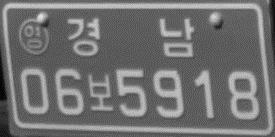0: (20, 66, 50, 116)
1: (194, 69, 216, 120)
5: (115, 67, 148, 117)
6: (54, 67, 85, 117)
8: (227, 70, 260, 121)
9: (152, 68, 185, 119)
경남_D: (65, 14, 195, 58)
보: (86, 72, 116, 113)
영: (17, 17, 51, 55)
